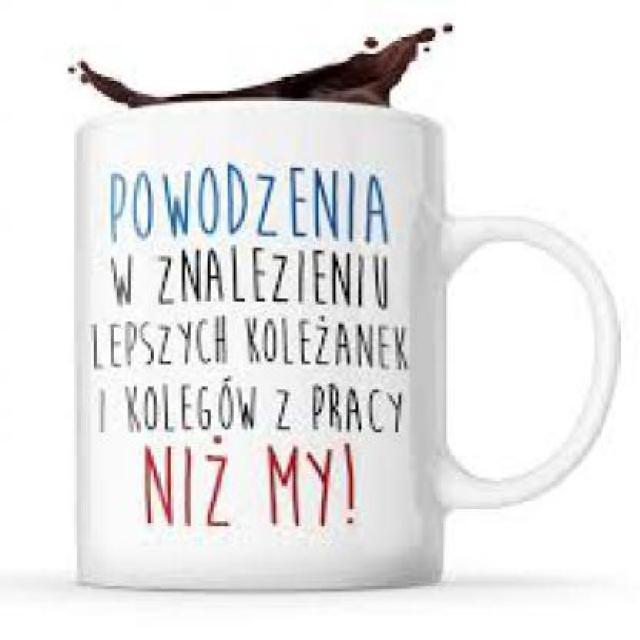cup: (57, 94, 628, 598)
